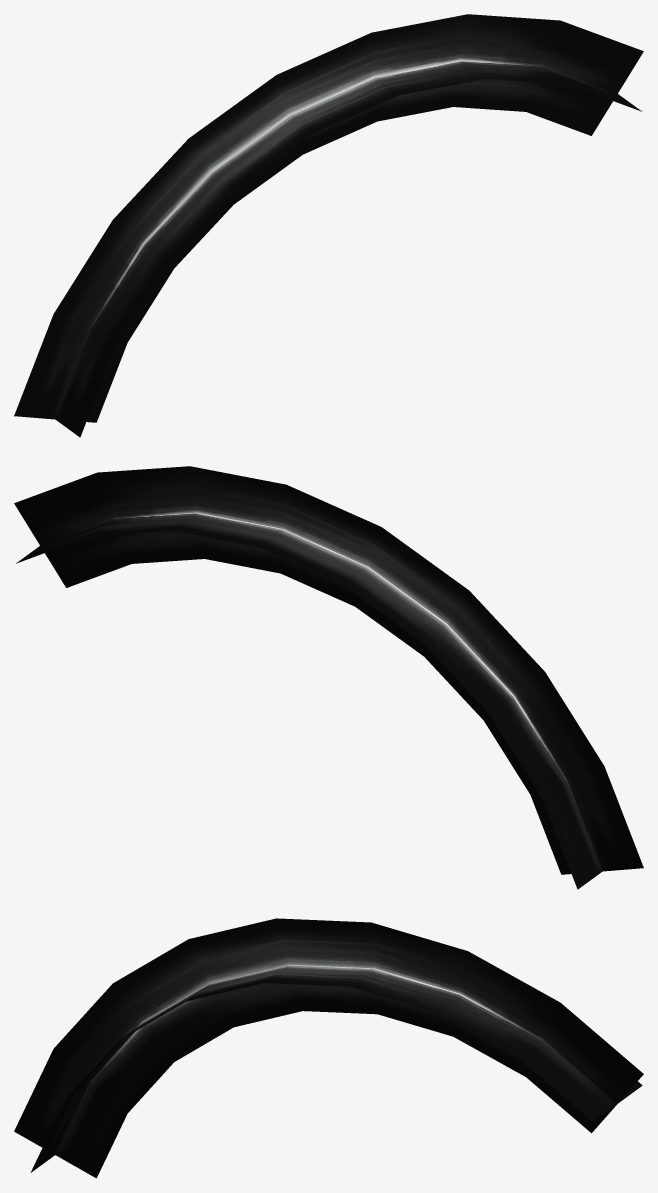
Rendered from youyingguici_1.FBX.
3 views of the same model, one above another, from view 1: azimuth 30°, elevation 25°; view 2: azimuth 150°, elevation 25°; view 3: azimuth 330°, elevation 25° (orthographic).
Parts seen in each view (by area): view 1: youyingguici_1; view 2: youyingguici_1; view 3: youyingguici_1.
Boxes of the visible parts, box(x1,y1,x2,y2) form: youyingguici_1: box(14, 14, 643, 437); youyingguici_1: box(14, 466, 643, 889); youyingguici_1: box(14, 918, 643, 1178).
Bounding box in the file's own units: 146 × 71.37 × 20.
